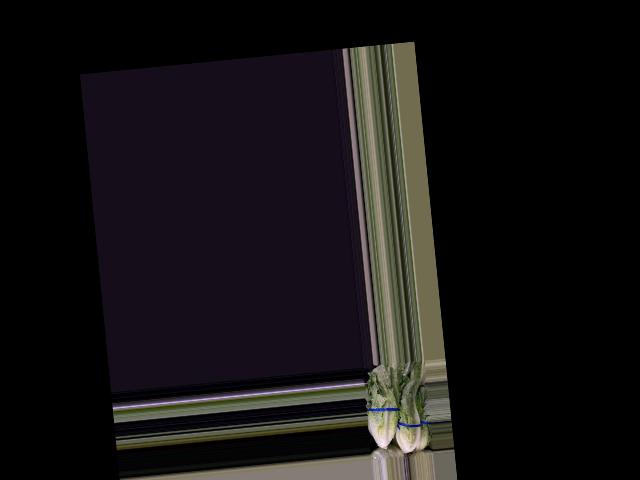lettuce: (390, 376, 429, 455)
